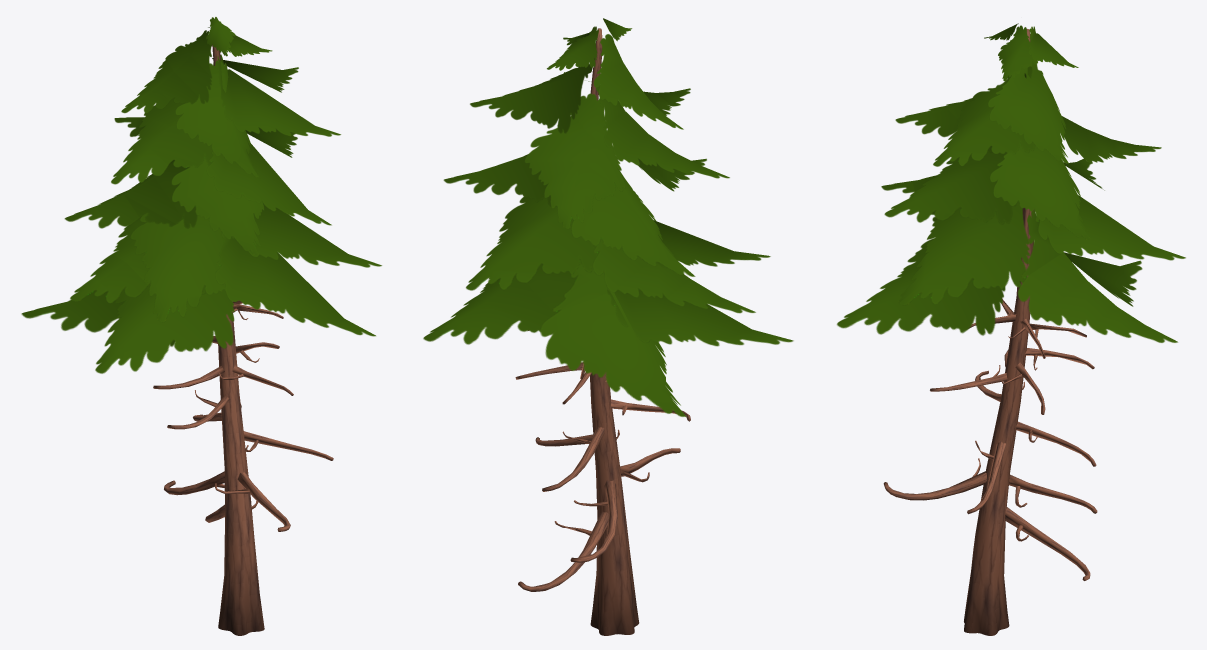
File: pine2.glb
3 renders of one model, left to right at view 1: azimuth 30°, elevation 25°; view 2: azimuth 150°, elevation 25°; view 3: azimuth 270°, elevation 25°, orthographic. The views are drawn at different scales.
Parts seen in each view (by area): view 1: Pine_3; view 2: Pine_3; view 3: Pine_3.
Part boxes in pixels (left/top/right/bottom): Pine_3: left=21, top=17, right=381, bottom=635; Pine_3: left=423, top=18, right=793, bottom=635; Pine_3: left=837, top=23, right=1185, bottom=635.
Size of the model in its own units: 3.61 by 7.39 by 4.
Materials: 2 (2 with a texture image).
